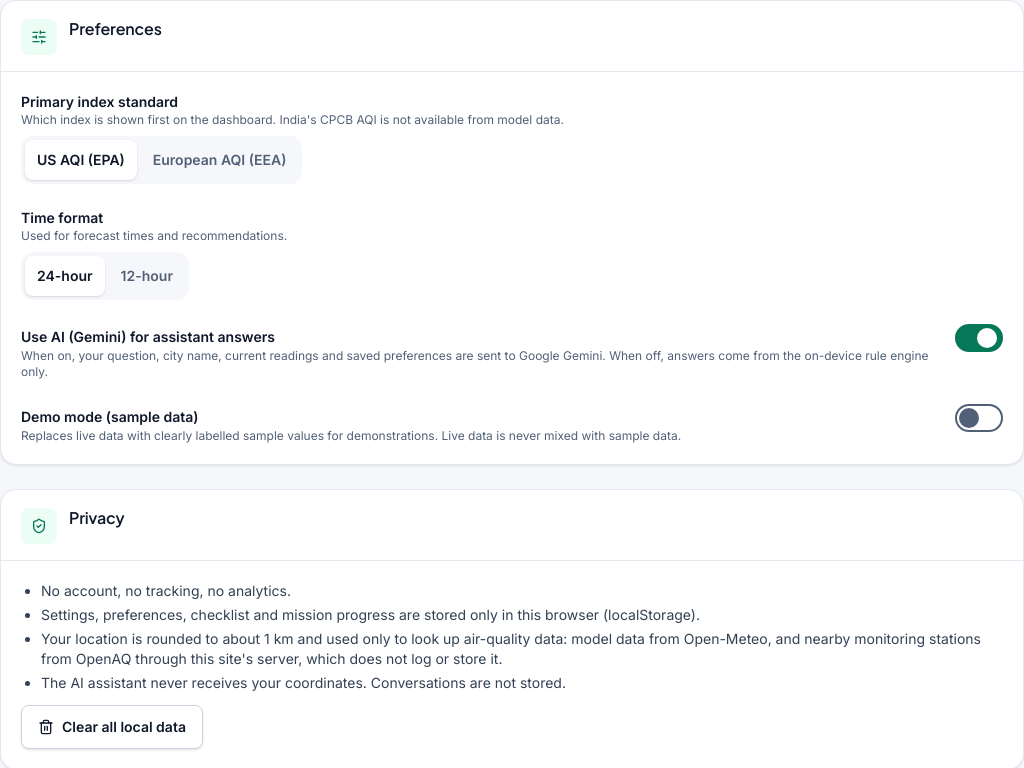
Test: SettingsPanel › changes behaviour-affecting settings and clears all local data after confirmation
Click the radio button "12-hour": (147, 276) [121,267,173,284]
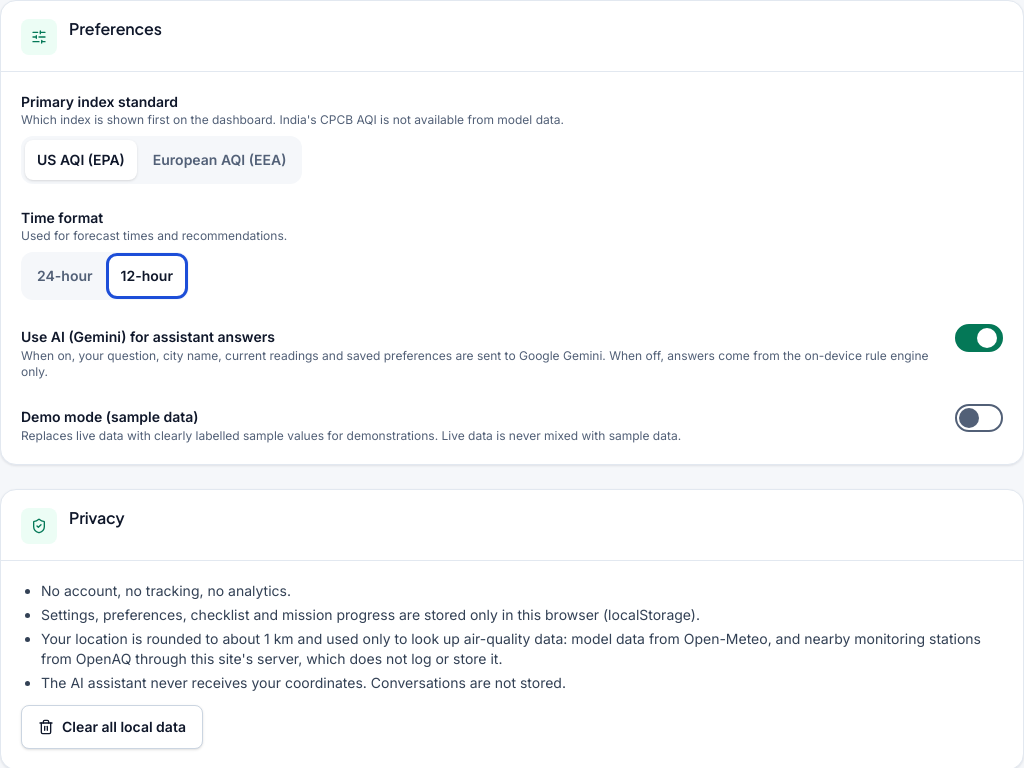
Click the radio button "European AQI (EEA)": (220, 160) [153,151,286,168]
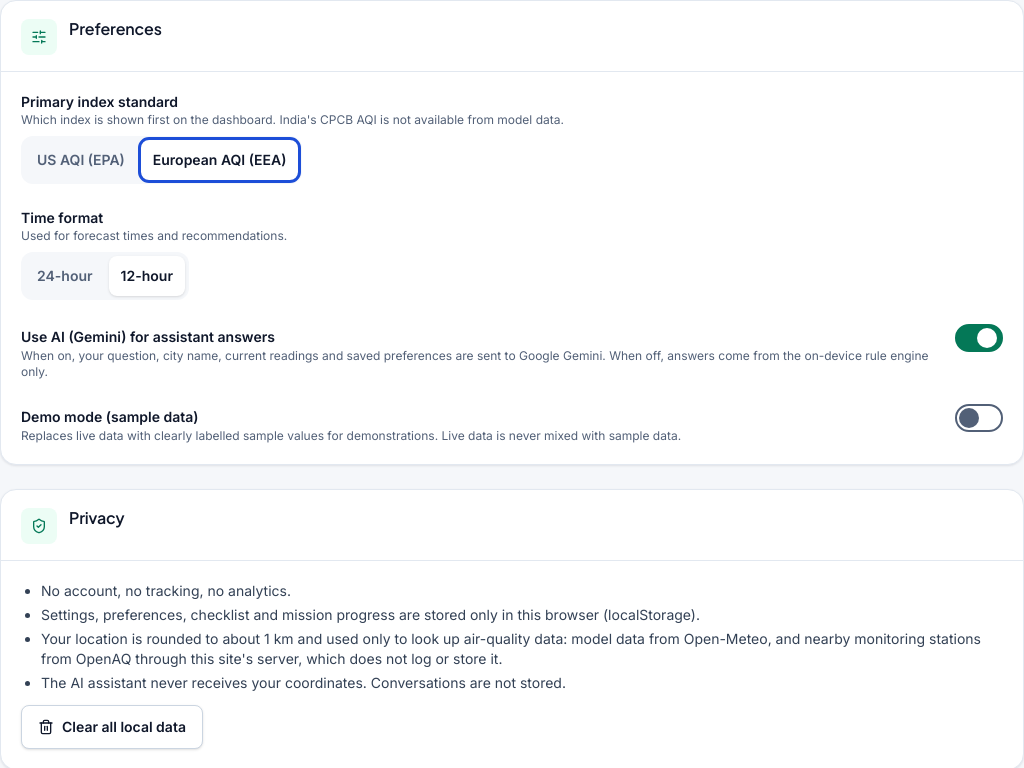
Click the switch named "Use AI (Gemini) for assistant answers" in the row of "Use AI (Gemini) for assistant answers": (979, 338) [955,324,1003,352]
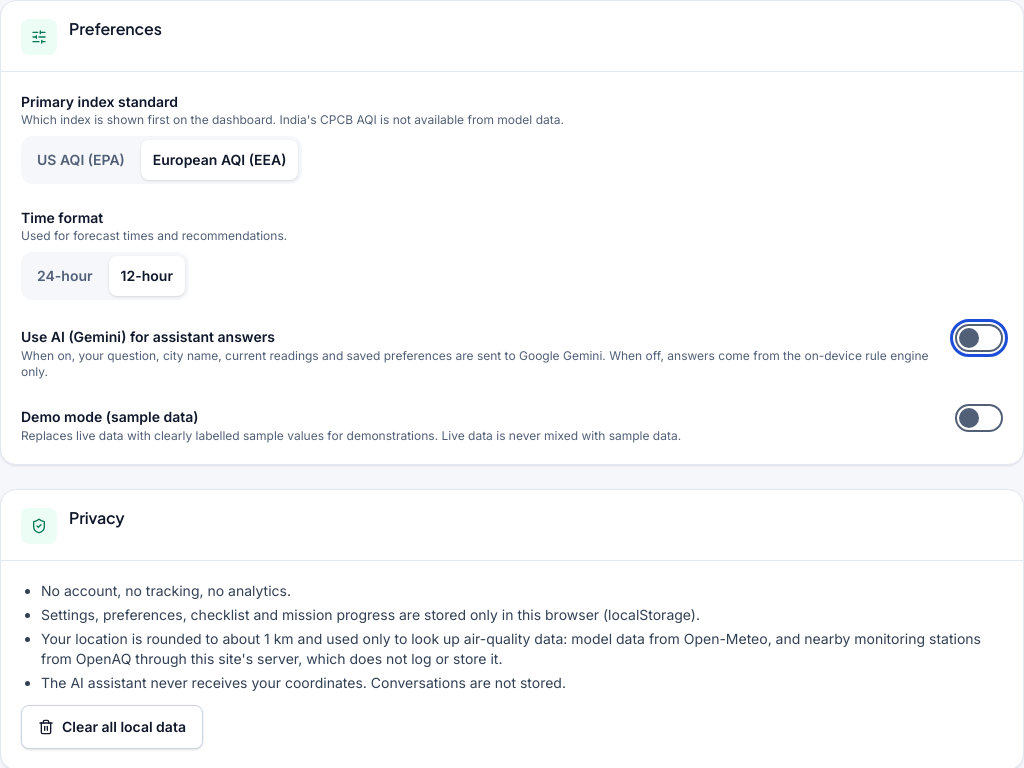
Click the button "Clear all local data": (112, 727) [21,705,203,749]
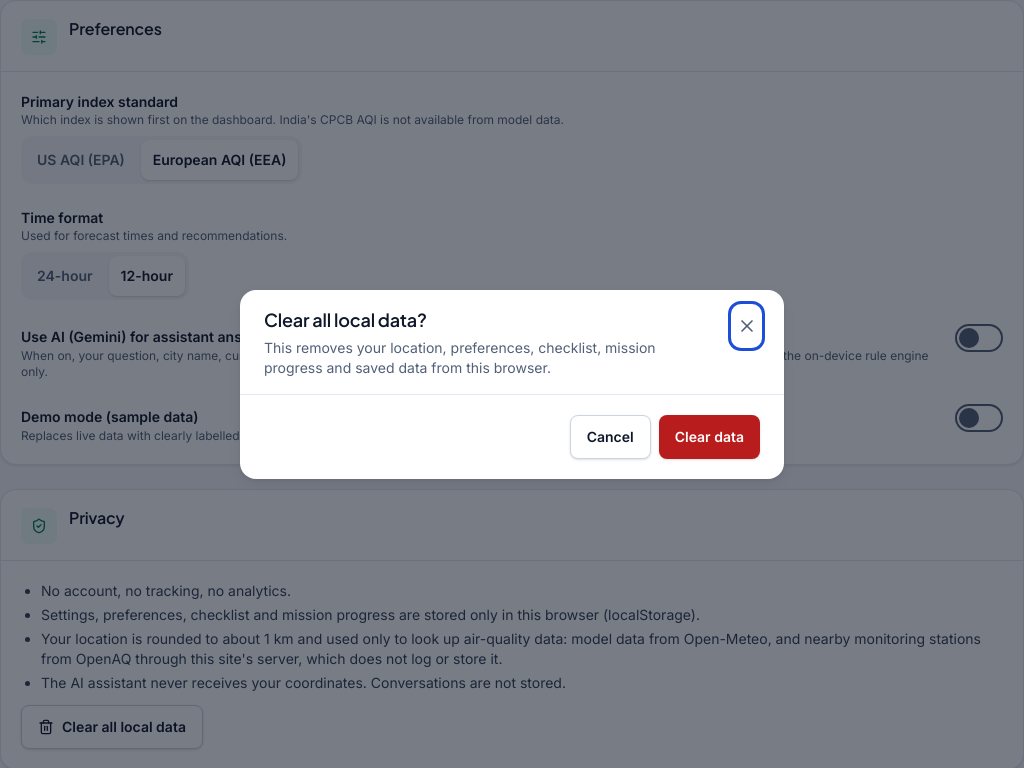
Click the button "Clear data": (709, 436) [659,414,760,458]
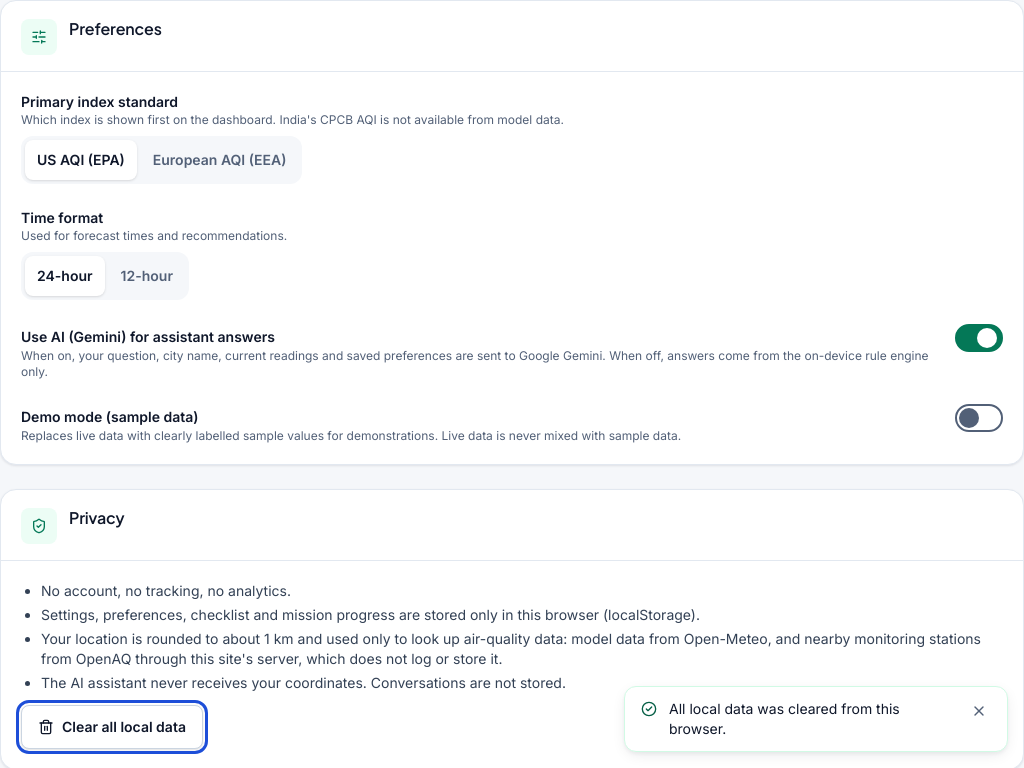
Expected: the text "All local data was cleared from this browser." is shown, [669,700,900,737]
